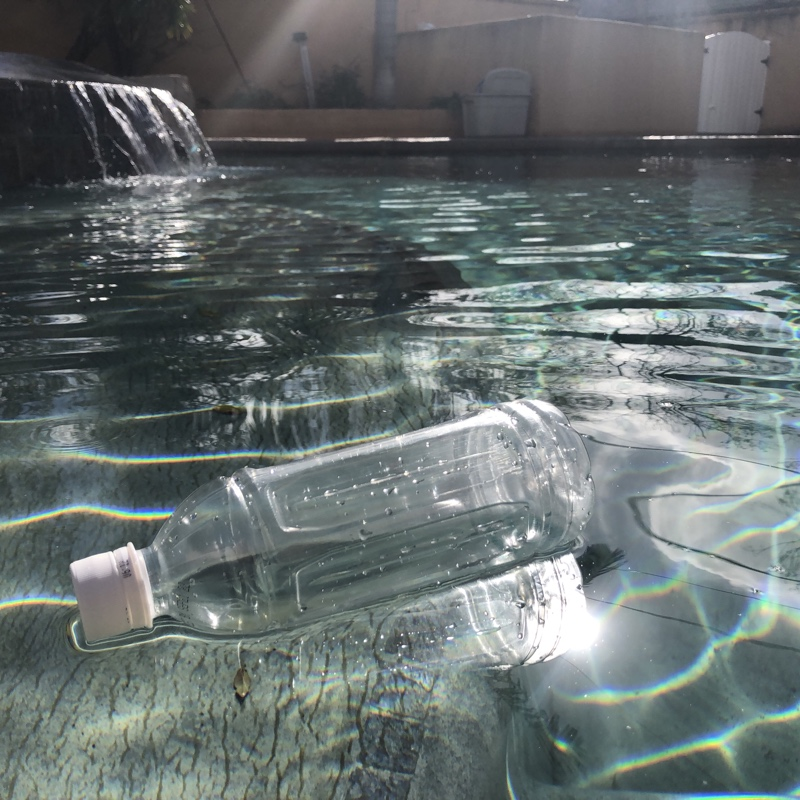Plastic Bottle: (62, 395, 598, 663)
